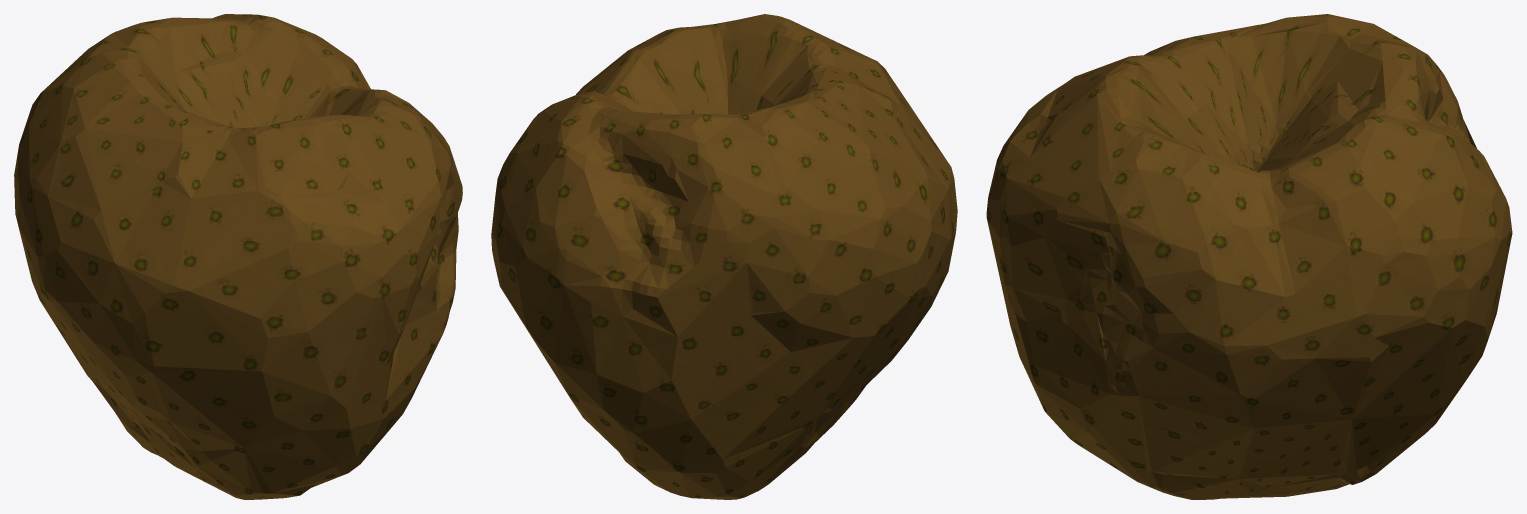
The picture shows the model from 3 angles, left to right: view 1: azimuth 30°, elevation 25°; view 2: azimuth 150°, elevation 25°; view 3: azimuth 270°, elevation 25°; orthographic projection. The views are drawn at different scales.
Parts seen in each view (by area): view 1: _003_Meshed; view 2: _003_Meshed; view 3: _003_Meshed.
Part boxes in pixels (bbox=[...]): _003_Meshed: bbox=[14, 14, 462, 499]; _003_Meshed: bbox=[491, 14, 957, 499]; _003_Meshed: bbox=[986, 14, 1512, 499].
Bounding box in the file's own units: 0.0971 × 0.1082 × 0.0983.
Materials: 1 (1 with a texture image).
